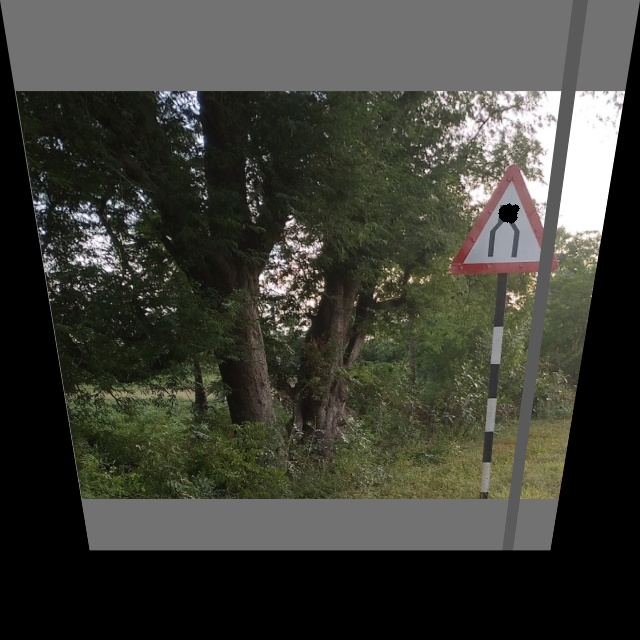Narrow_Road_Ahead: (447, 163, 574, 276)
